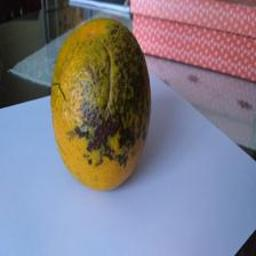Orange Semirotten: (43, 4, 164, 204)
